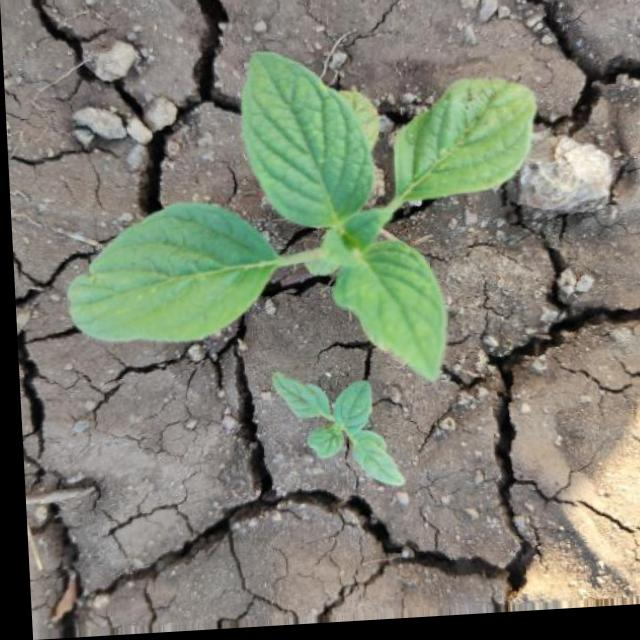crop: (45, 40, 551, 395), (249, 366, 402, 508)
